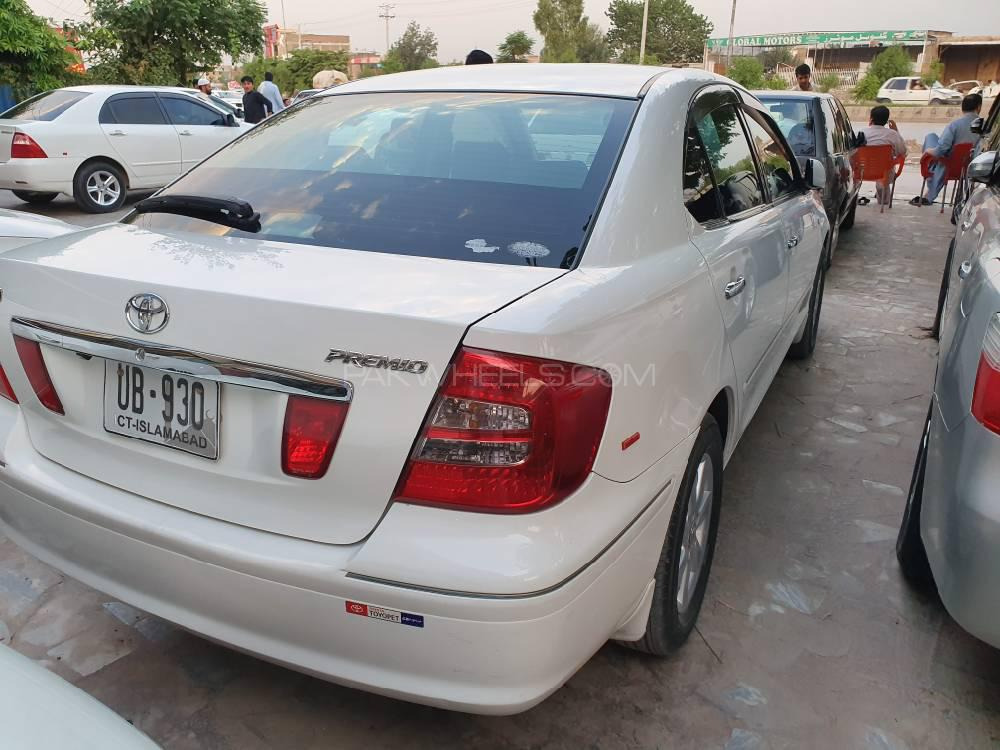license plate: (105, 358, 225, 461)
